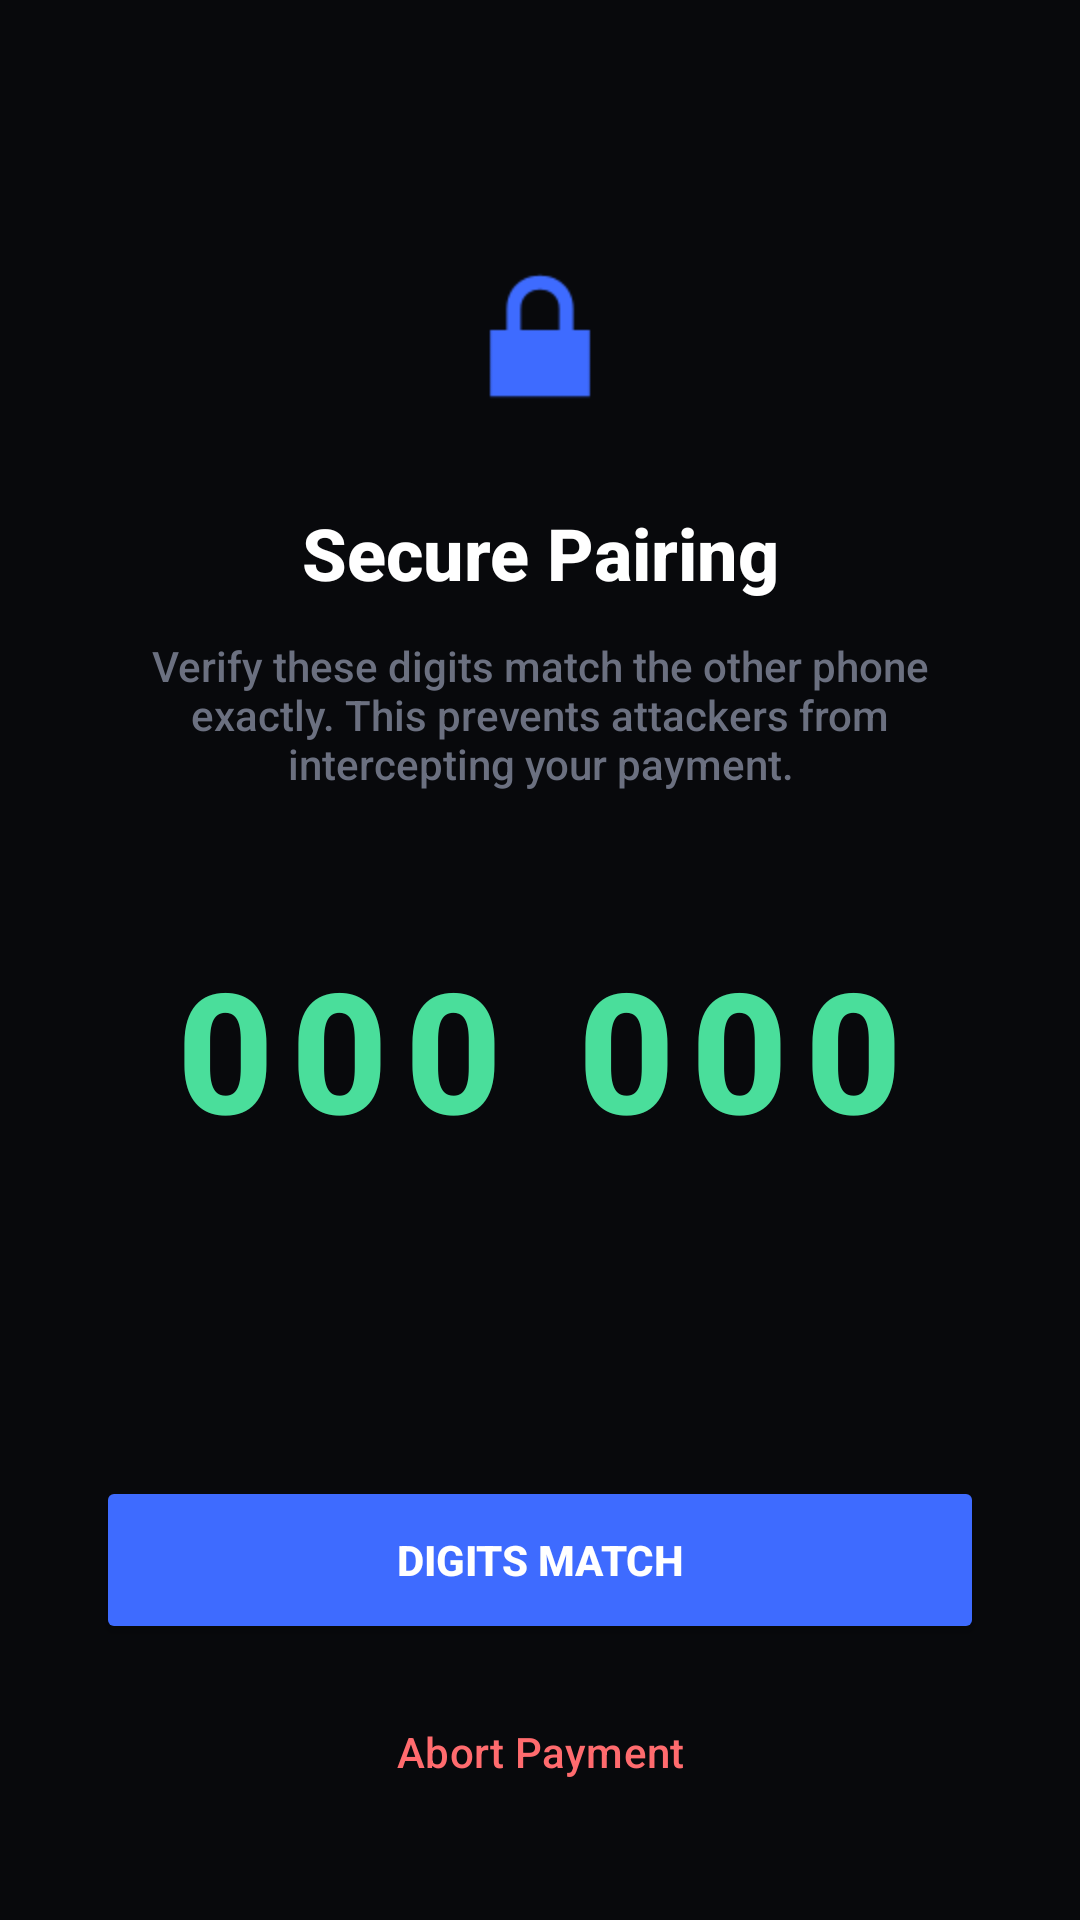

Locate icon controls on the screen. Image size 1080px×1920px, boxes as (x1, y1, x2, y2).
lock: (489, 274, 591, 398)
